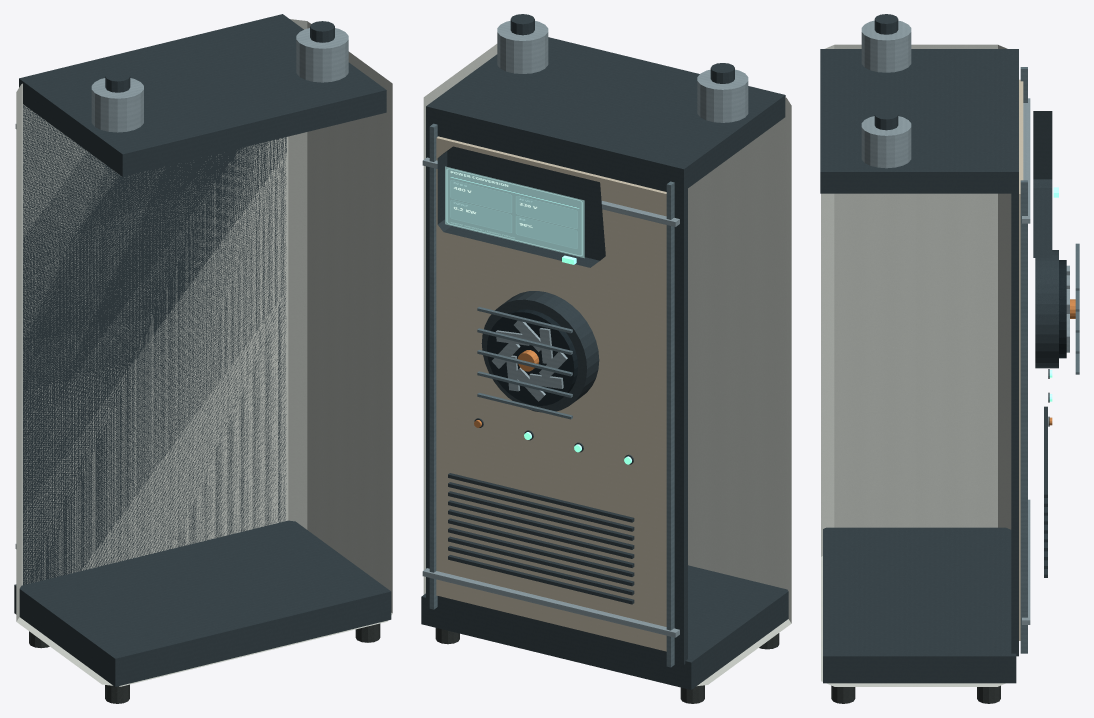
File: inverter_cabinet.glb
3 views of the same model, side by side, from view 1: azimuth 30°, elevation 25°; view 2: azimuth 150°, elevation 25°; view 3: azimuth 270°, elevation 25° (orthographic). The views are drawn at different scales.
Parts seen in each view (by area): view 1: static__shell, front_frame__graphite, static__graphite, Cable_Couplers__alloy, feet__rubber, Cable_Couplers__graphite; view 2: access_panel__cream, static__shell, static__graphite, front_frame__graphite, Vents__graphite, Display__ui_inverter, static__trim, Display__graphite, Cable_Couplers__alloy, Cooling_Fan__graphite, Cooling_Fan__carbon, static__alloy (+4 smaller); view 3: static__shell, static__graphite, Cable_Couplers__alloy, static__trim, front_frame__graphite, Display__graphite, Cooling_Fan__graphite, access_panel__cream, static__alloy, Cable_Couplers__graphite, feet__rubber, Cooling_Fan__carbon (+2 smaller).
Boxes of the visible parts, x1,y1,x2,y2 form: static__shell: (16,19,392,686); front_frame__graphite: (23,104,286,585); static__graphite: (14,14,391,686); Cable_Couplers__alloy: (91,28,348,132); feet__rubber: (29,623,380,703); Cable_Couplers__graphite: (105,21,334,92); access_panel__cream: (436,136,666,651); static__shell: (423,44,791,685); static__graphite: (421,37,788,689); front_frame__graphite: (426,122,687,664); Vents__graphite: (448,473,634,604); Display__ui_inverter: (445,166,584,258); static__trim: (429,123,674,667); Display__graphite: (437,146,605,267); Cable_Couplers__alloy: (497,20,748,122); Cooling_Fan__graphite: (481,291,599,412); Cooling_Fan__carbon: (487,309,577,405); static__alloy: (422,157,679,637); static__shell: (821,44,1011,686); static__graphite: (820,49,1018,683); Cable_Couplers__alloy: (861,20,911,168); static__trim: (1020,67,1027,653); front_frame__graphite: (1011,188,1018,656); Display__graphite: (1033,111,1052,257); Cooling_Fan__graphite: (1035,250,1058,368); access_panel__cream: (1019,79,1023,640); static__alloy: (1022,98,1030,624); Cable_Couplers__graphite: (874,14,898,130); feet__rubber: (831,685,1000,703); Cooling_Fan__carbon: (1059,260,1066,358).
Size of the model in its own units: 1.08 by 2.13 by 0.8715.
10 materials, 10 textured.
